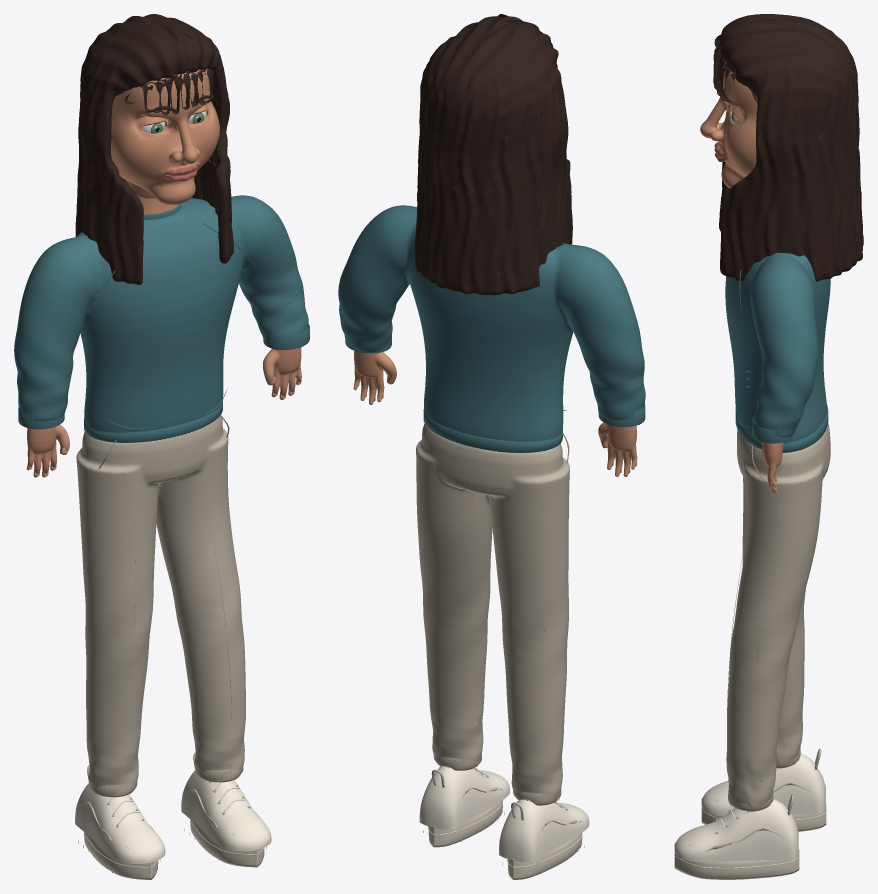
Rendered from twin.glb.
The picture shows the model from 3 angles, left to right: view 1: azimuth 30°, elevation 25°; view 2: azimuth 150°, elevation 25°; view 3: azimuth 270°, elevation 25°; orthographic projection.
Parts seen in each view (by area): view 1: Twin_Body, Hair_Long_Mass, Head_Sculpt, Twin_Hand, Hair_Bob_Mass; view 2: Twin_Body, Hair_Long_Mass, Twin_Hand; view 3: Twin_Body, Hair_Long_Mass, Head_Sculpt, Twin_Hand, Hair_Bob_Mass.
Part boxes in pixels (x1=…): Twin_Body: x1=14, y1=195, x2=309, y2=879; Hair_Long_Mass: x1=75, y1=14, x2=234, y2=284; Head_Sculpt: x1=111, y1=68, x2=219, y2=204; Twin_Hand: x1=26, y1=347, x2=301, y2=477; Hair_Bob_Mass: x1=80, y1=14, x2=219, y2=165; Twin_Body: x1=338, y1=205, x2=645, y2=879; Hair_Long_Mass: x1=414, y1=16, x2=572, y2=295; Twin_Hand: x1=353, y1=351, x2=637, y2=476; Twin_Body: x1=674, y1=252, x2=830, y2=879; Hair_Long_Mass: x1=719, y1=14, x2=863, y2=281; Head_Sculpt: x1=700, y1=68, x2=757, y2=188; Twin_Hand: x1=762, y1=442, x2=783, y2=492; Hair_Bob_Mass: x1=713, y1=14, x2=857, y2=141.
Bounding box in the file's own units: 0.6454 × 1.74 × 0.3622.
